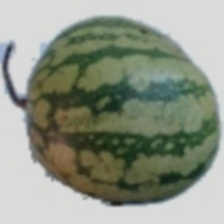watermelon: (33, 43, 224, 220)
